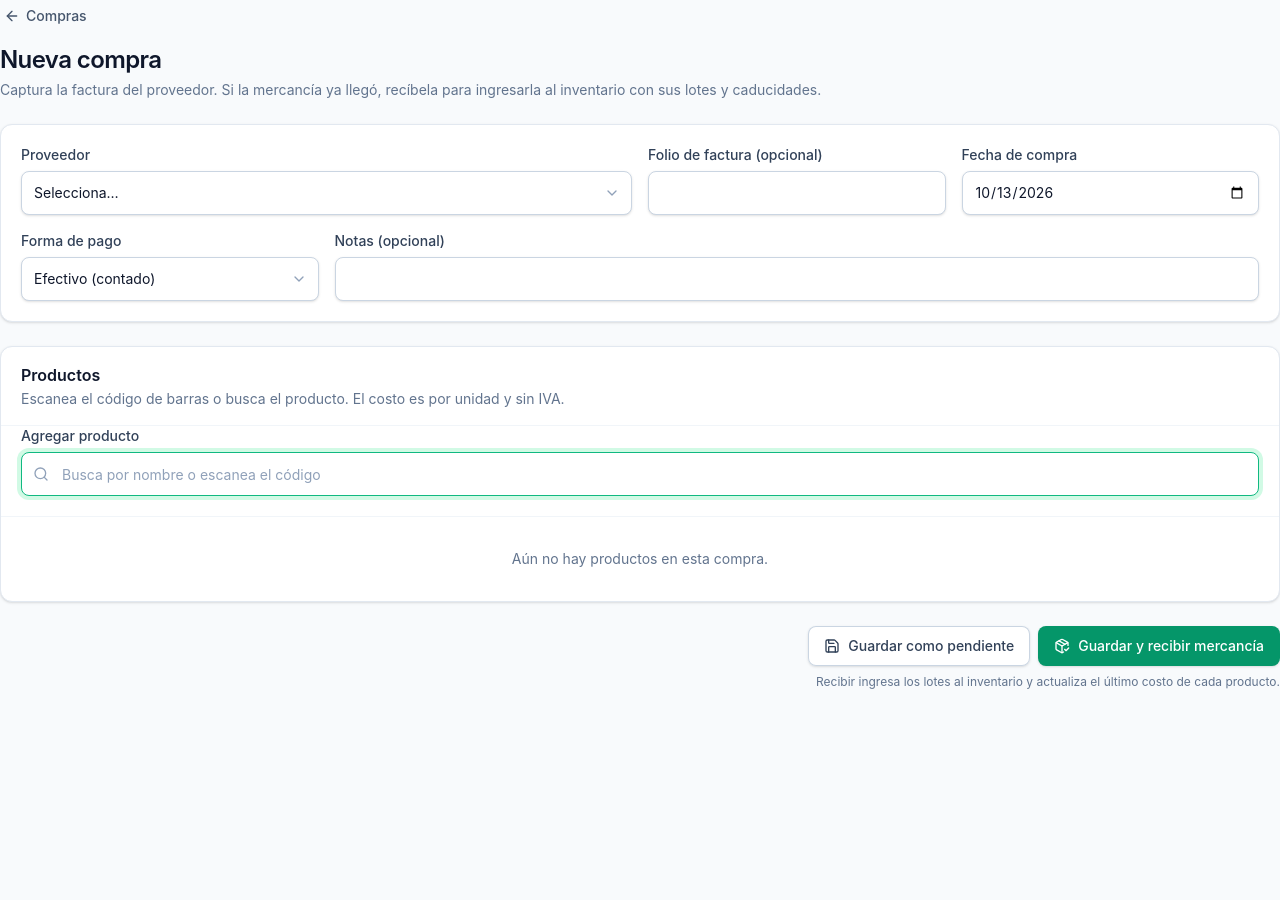
Test: PurchaseFormPage › un pedido se guarda sin lotes y muestra los errores del servidor en su renglón
The width and height of the screenshot is (1280, 900).
Select "Distribuidora del Valle" in the dropdown labelled "Proveedor": x=326, y=193 [21,171,632,215]
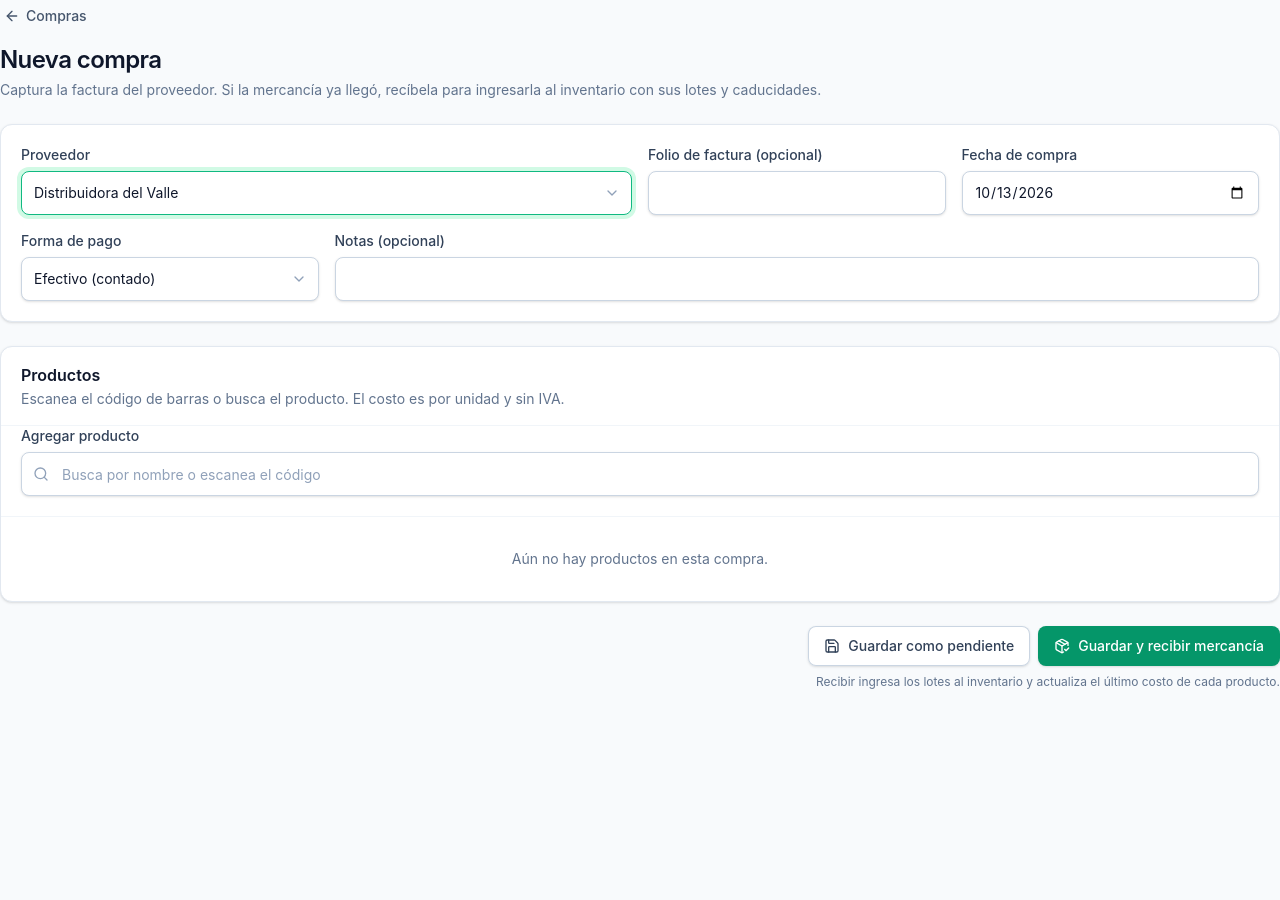
Expected: the dropdown labelled "Forma de pago" shows "Efectivo (contado)", [21,257,318,301]
In the field labelled "Folio de factura (opcional)": x=797, y=193 [648,171,946,215], type "F-1"
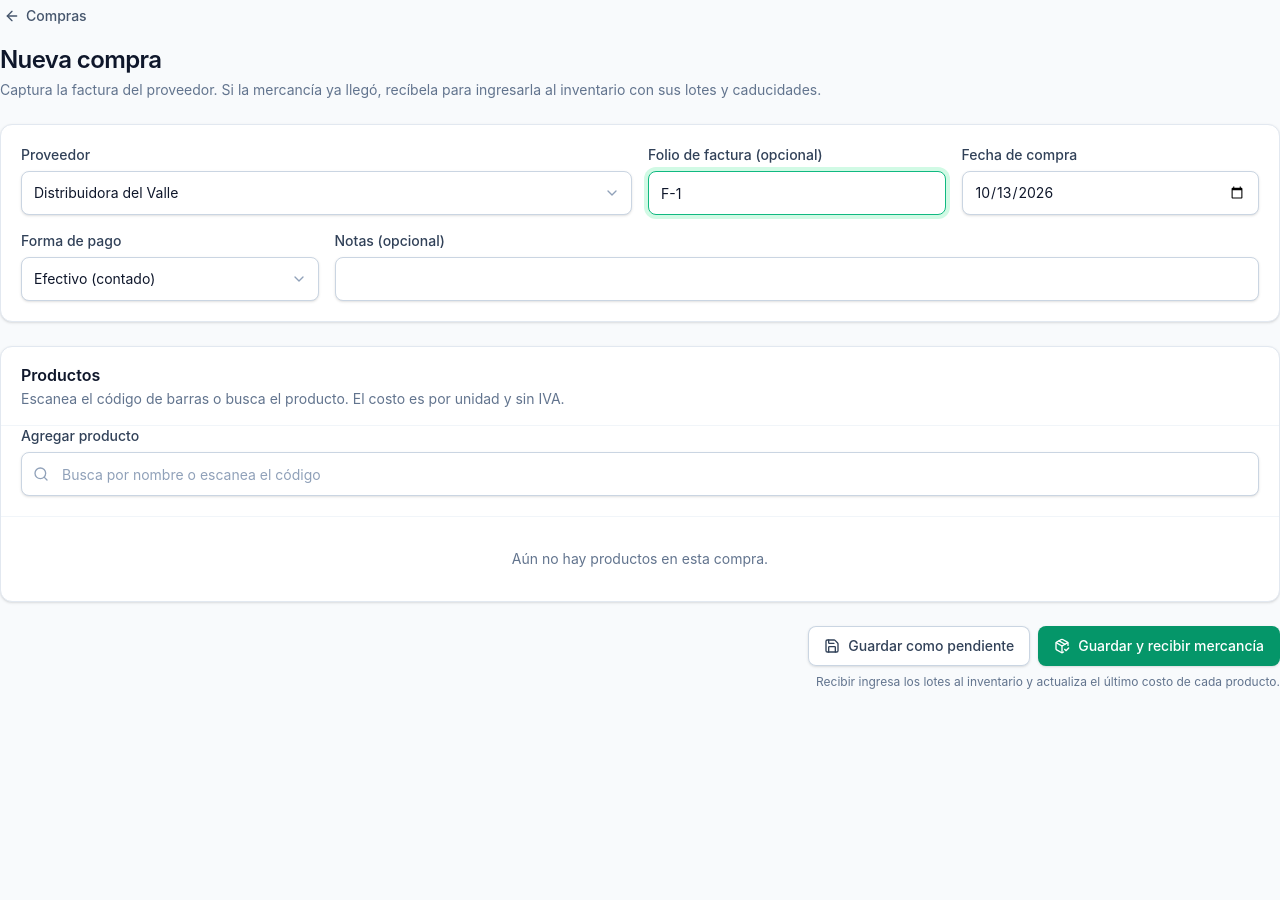
In the field labelled "Agregar producto": x=640, y=474 [21,452,1259,496], type "para"
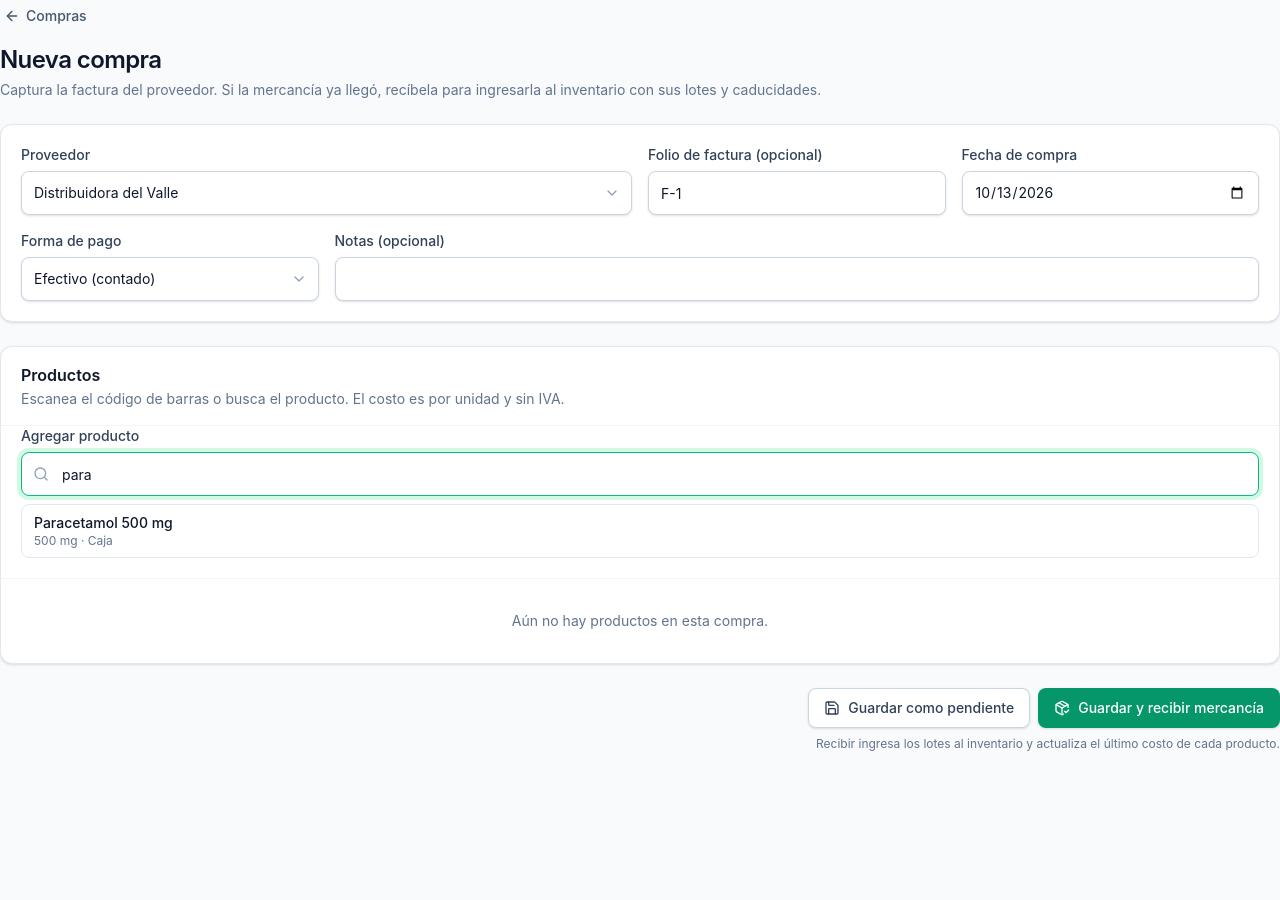
Click the button "Paracetamol 500 mg 500 mg · Caja": x=103, y=522 [22,505,1258,557]
(page scrolled)
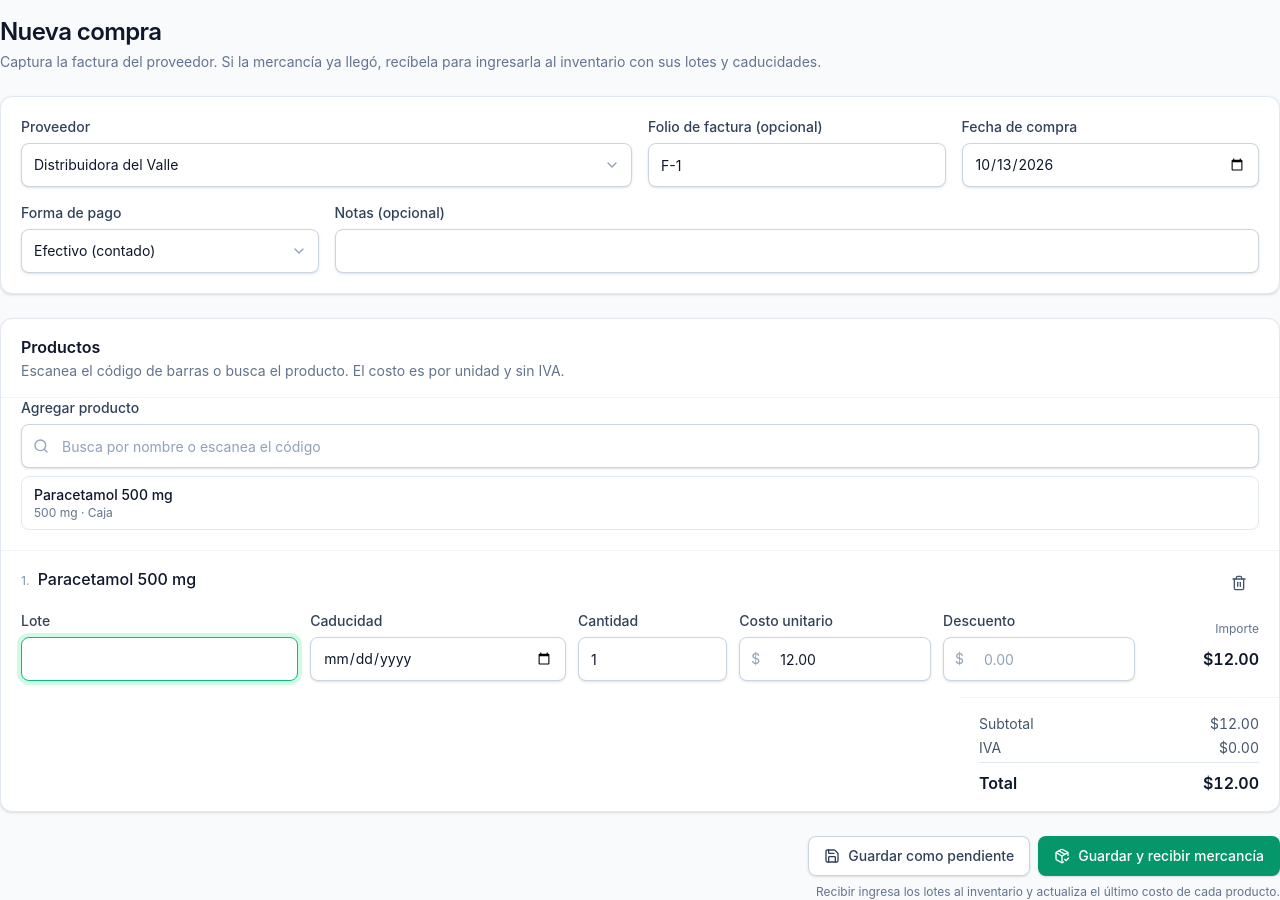
Click the button "Guardar como pendiente": x=919, y=856 [808,836,1030,876]
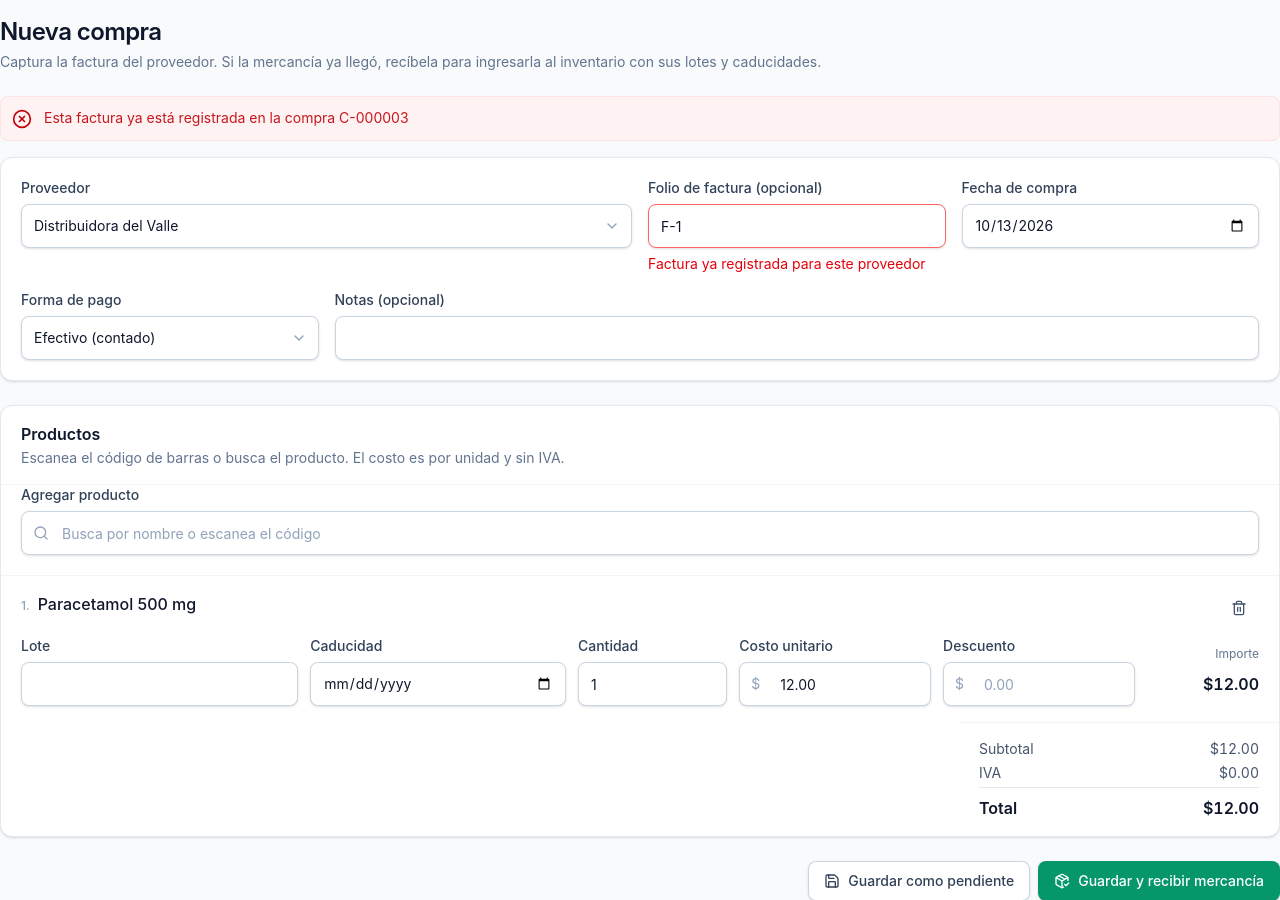
Now the text "Factura ya registrada para este proveedor" is shown, box [648,254,946,274]
